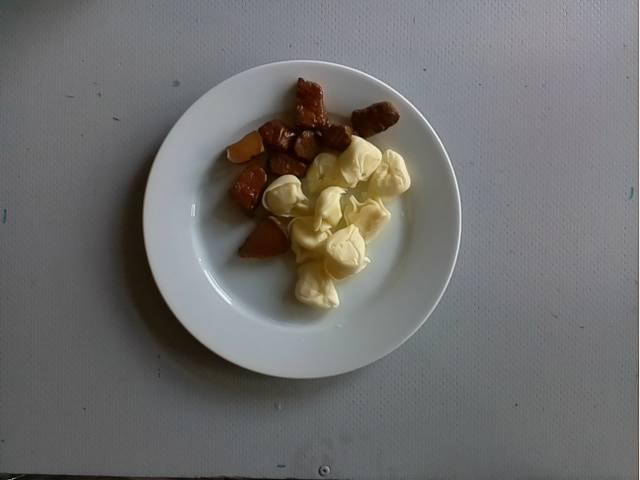Tortellini + meat: (207, 88, 423, 293)
